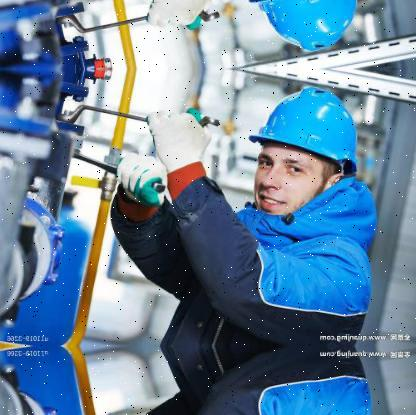helmet: (238, 77, 371, 220), (238, 0, 372, 60)
